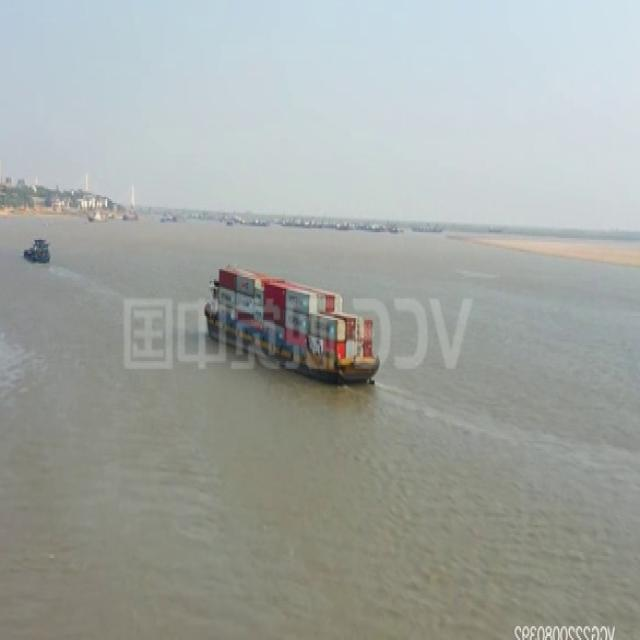cargoship: (198, 257, 389, 383)
fishing boat: (23, 236, 53, 266)
